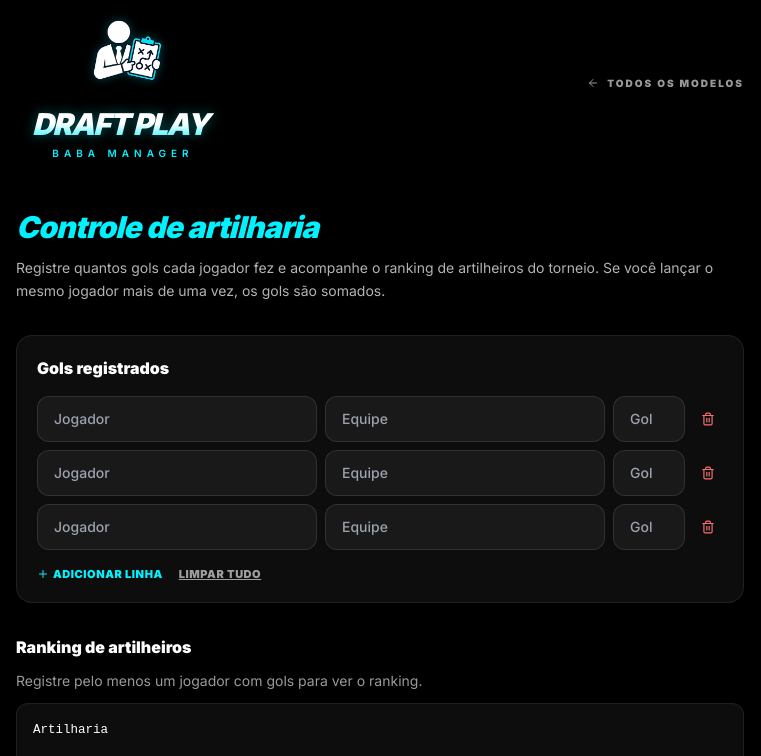
it: Artilharia › avisa sobre linhas incompletas
In the field named "Jogador 1": {"x": 177, "y": 418} [37, 396, 317, 442], type "Sem gols"
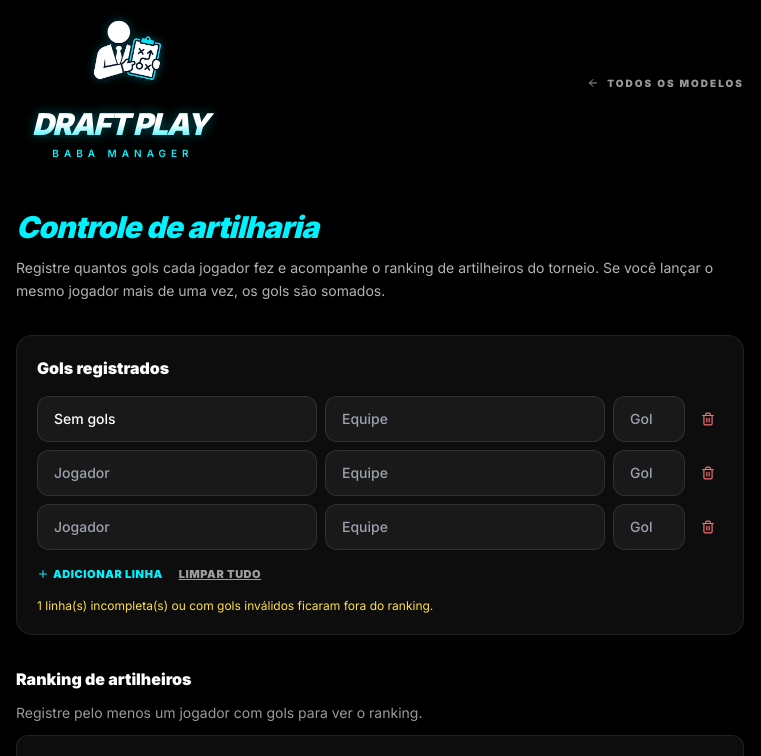
Expected: the message shows "1 linha(s) incompleta", [37, 598, 433, 613]
